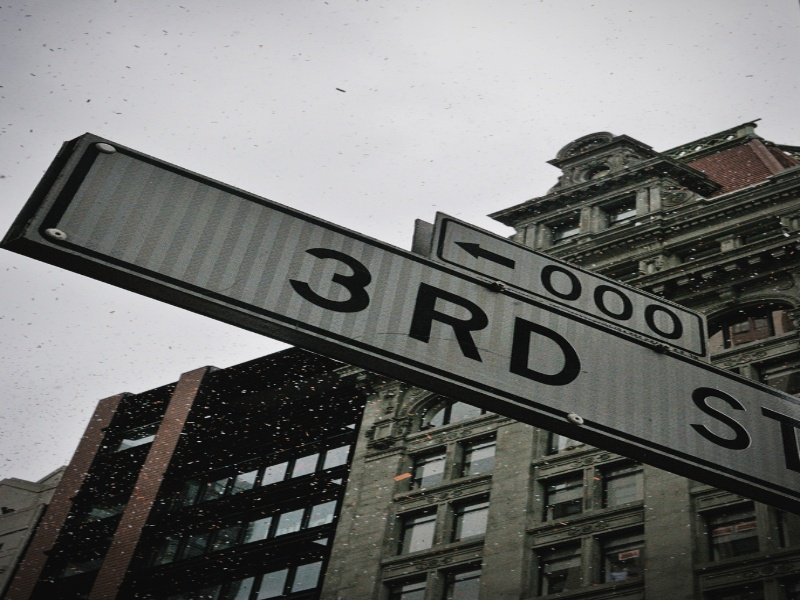left_direction: (451, 237, 520, 273)
